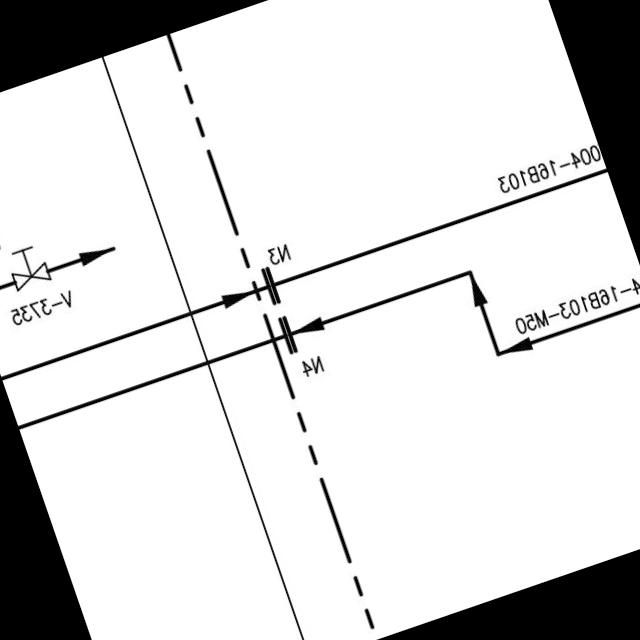HV: (1, 236, 59, 294)
